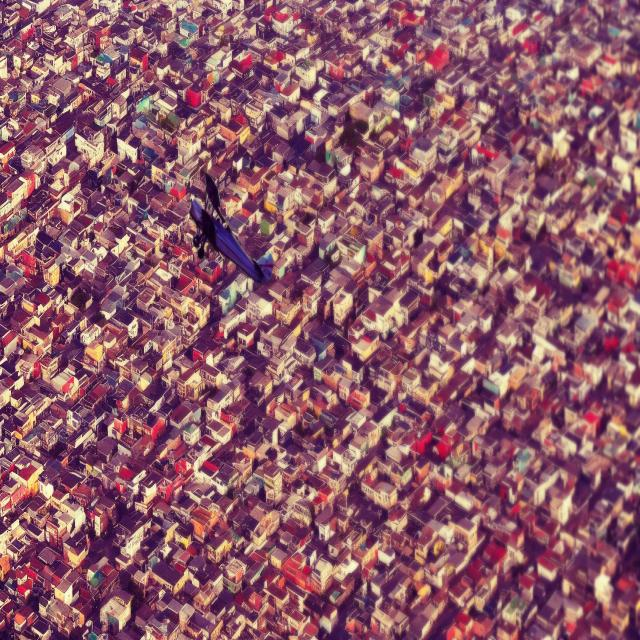airplane: (188, 172, 274, 285)
